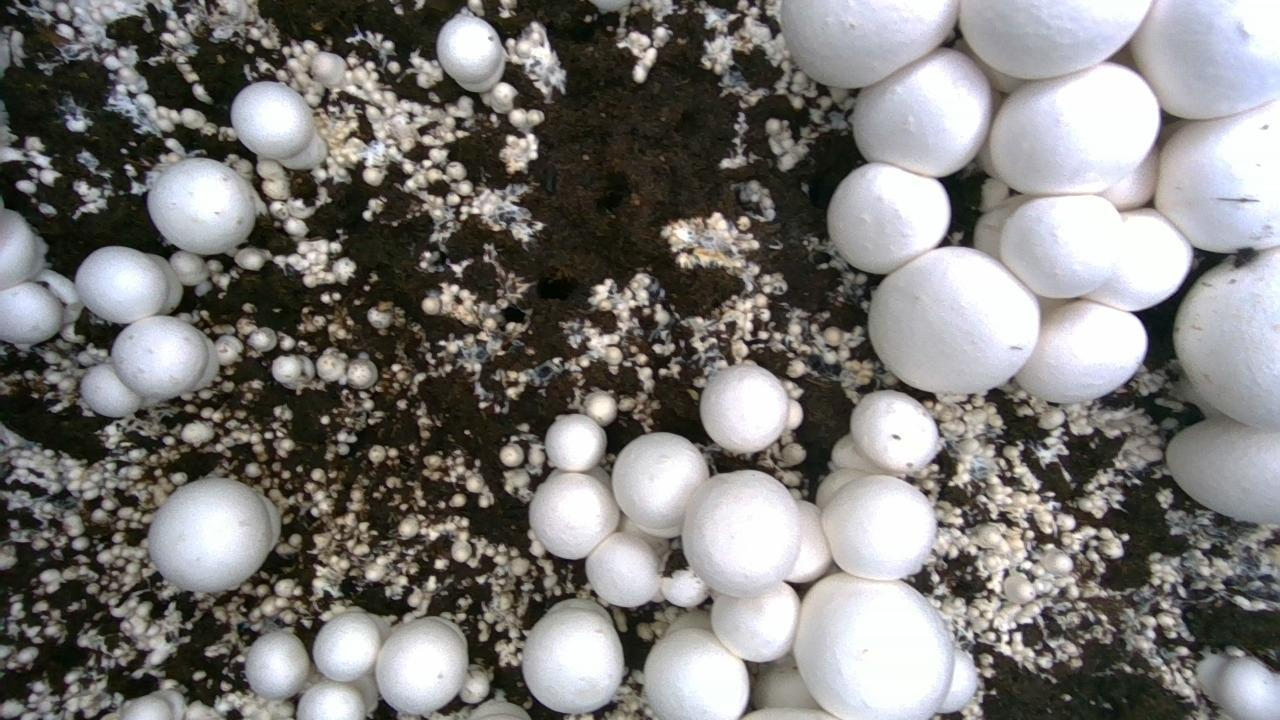WB: (868, 248, 1040, 393), (793, 572, 953, 719), (989, 62, 1159, 195), (1176, 246, 1280, 430), (1155, 100, 1279, 252), (852, 48, 991, 176), (1131, 0, 1279, 119), (781, 0, 958, 87), (681, 470, 801, 598), (959, 0, 1149, 78), (148, 478, 272, 591), (827, 162, 950, 273), (1016, 300, 1147, 402), (1000, 195, 1122, 297), (821, 475, 936, 580), (1166, 418, 1279, 523), (1084, 209, 1192, 310), (522, 607, 623, 713), (147, 158, 255, 254), (614, 433, 708, 536), (644, 628, 749, 719), (376, 617, 468, 714), (111, 315, 208, 398), (700, 364, 788, 452), (529, 472, 619, 558), (850, 390, 938, 472), (75, 246, 167, 323), (711, 582, 800, 661), (229, 80, 314, 158), (585, 532, 660, 606), (436, 11, 504, 86), (313, 611, 382, 681), (245, 631, 309, 698), (0, 281, 62, 344), (1220, 658, 1280, 720), (545, 414, 606, 471), (296, 680, 366, 720), (939, 649, 980, 714)
